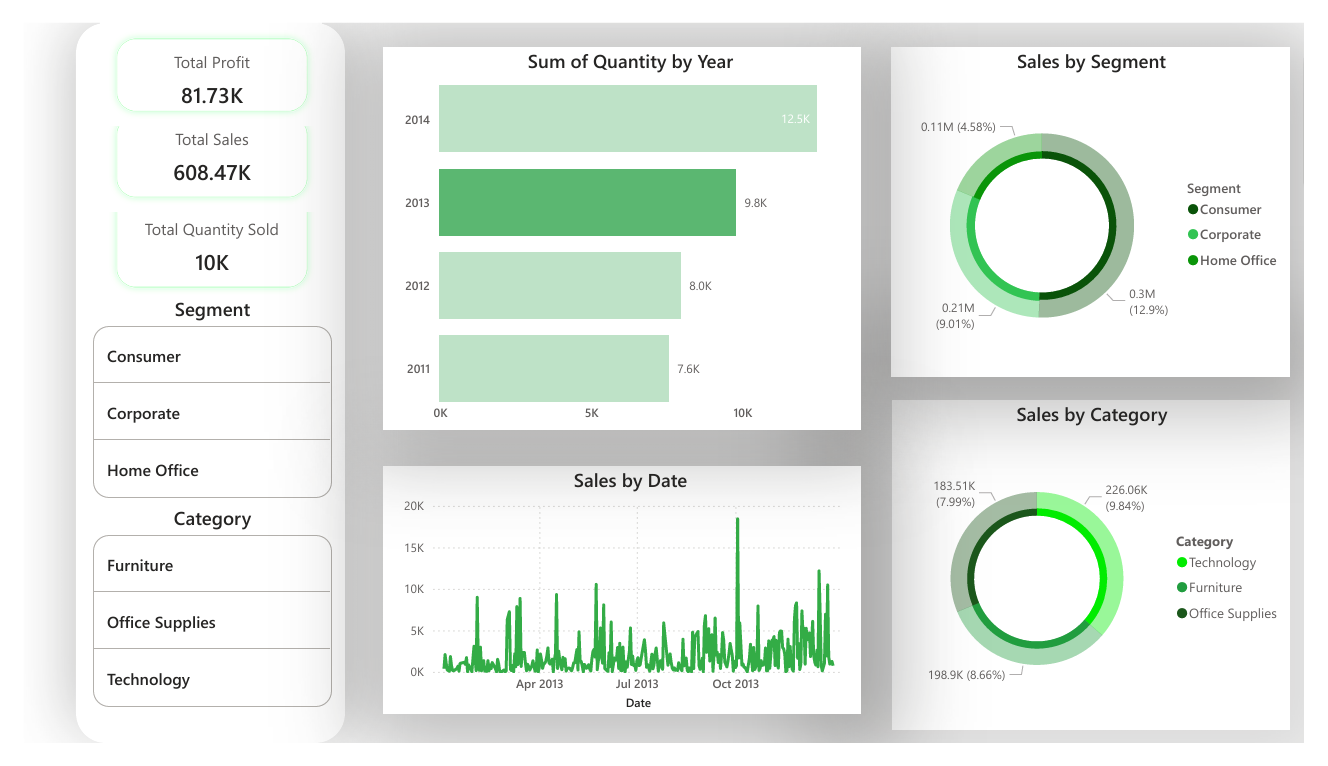

What the dashboard file says about the page in this screenshot:
{"tool":"powerbi","page":{"name":"Page 1","canvas":[1280,720],"ordinal":0},"visuals":[{"type":"shape","box":[62.4,16.8,250.5,675.1],"z":1000},{"type":"shape","box":[52.4,0,268.9,719.8],"z":1500},{"type":"cardVisual","fields":{"Data":["Sum(Superstore.Quantity)"]},"box":[77.5,150.8,221.4,128.7],"z":6000},{"type":"cardVisual","fields":{"Data":["Sum(Superstore.Sales)"]},"box":[77.5,77.5,221.4,112.1],"z":6500},{"type":"cardVisual","fields":{"Data":["Sum(Superstore.Profit)"]},"box":[77.5,0,221.4,103.8],"z":6750},{"type":"donutChart","fields":{"Category":["Superstore.Category"],"Y":["Sum(Superstore.Sales)"]},"box":[869,377.8,398,330.7],"z":7000},{"type":"donutChart","title":"Sales by Segment","fields":{"Category":["Superstore.Segment"],"Y":["Sum(Superstore.Sales)"]},"box":[868.2,24.6,398.4,330.3],"z":8000},{"type":"advancedSlicerVisual","fields":{"Values":["Superstore.Category"]},"box":[63.7,481.6,249.1,209],"z":8250},{"type":"advancedSlicerVisual","fields":{"Values":["Superstore.Segment"]},"box":[63.7,272.6,249.1,209],"z":8500},{"type":"lineChart","fields":{"Category":["Superstore.Order Date"],"Y":["Sum(Superstore.Sales)"]},"box":[360.5,444.1,477.6,247.7],"z":9000},{"type":"clusteredBarChart","fields":{"Y":["Sum(Superstore.Quantity)"],"Category":["Superstore.Order Date.Variation.Date Hierarchy.Year","Superstore.Order Date.Variation.Date Hierarchy.Quarter","Superstore.Order Date.Variation.Date Hierarchy.Month","Superstore.Order Date.Variation.Date Hierarchy.Day"]},"box":[360.5,24.6,477.6,383.9],"z":10000}]}

Visuals, with their boxes in screenshot pixels (x1, y1, x2, y2), scaled from the page's 1280x720 canvas onto the 1328x766 screenshot:
shape: select_region(65, 18, 325, 736)
shape: select_region(54, 0, 333, 765)
cardVisual - Sum(Superstore.Quantity): select_region(80, 160, 310, 297)
cardVisual - Sum(Superstore.Sales): select_region(80, 82, 310, 202)
cardVisual - Sum(Superstore.Profit): select_region(80, 0, 310, 110)
donutChart - Superstore.Category x Sum(Superstore.Sales): select_region(902, 402, 1315, 754)
"Sales by Segment" donutChart: select_region(901, 26, 1314, 378)
advancedSlicerVisual - Superstore.Category: select_region(66, 512, 325, 735)
advancedSlicerVisual - Superstore.Segment: select_region(66, 290, 325, 512)
lineChart - Superstore.Order Date x Sum(Superstore.Sales): select_region(374, 472, 870, 736)
clusteredBarChart - Sum(Superstore.Quantity) x Superstore.Order Date.Variation.Date Hierarchy.Year: select_region(374, 26, 870, 435)
